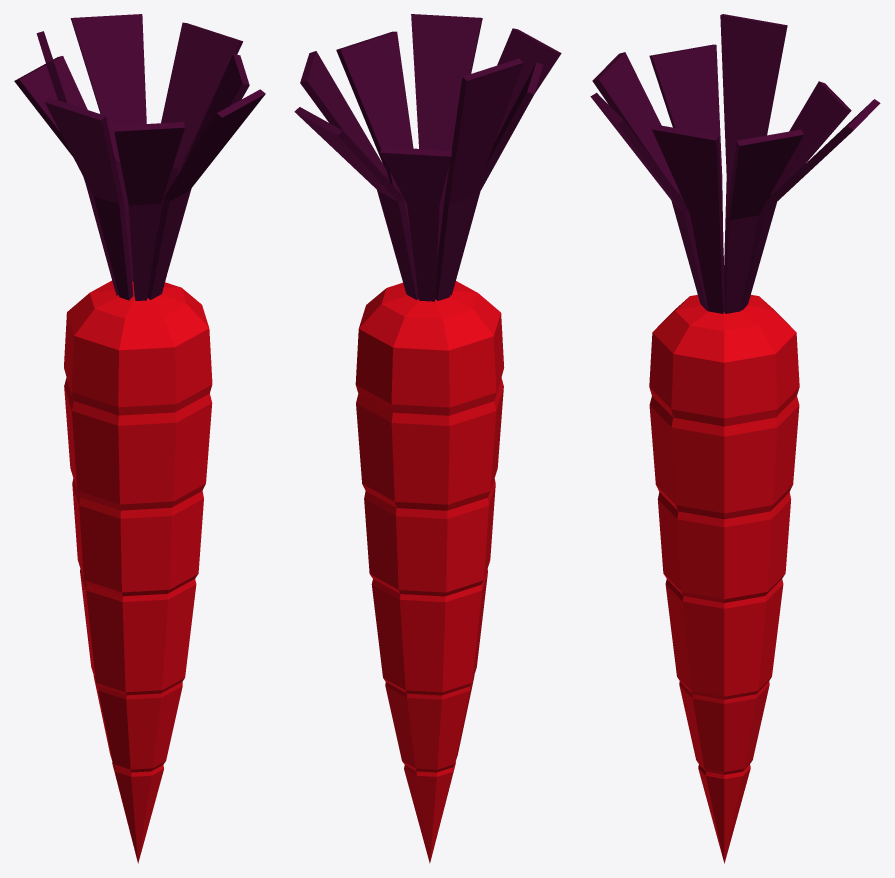
The model's file is Carrot_01.fbx.
3 views of the same model, side by side, from view 1: azimuth 30°, elevation 25°; view 2: azimuth 150°, elevation 25°; view 3: azimuth 270°, elevation 25° (orthographic). The views are drawn at different scales.
Parts seen in each view (by area): view 1: Carrot_01; view 2: Carrot_01; view 3: Carrot_01.
Part boxes in pixels (x1,y1,x2,y2): Carrot_01: (14, 14, 265, 863); Carrot_01: (294, 14, 561, 863); Carrot_01: (590, 14, 880, 863).
Bounding box in the file's own units: 2.6 × 9.69 × 3.16.
